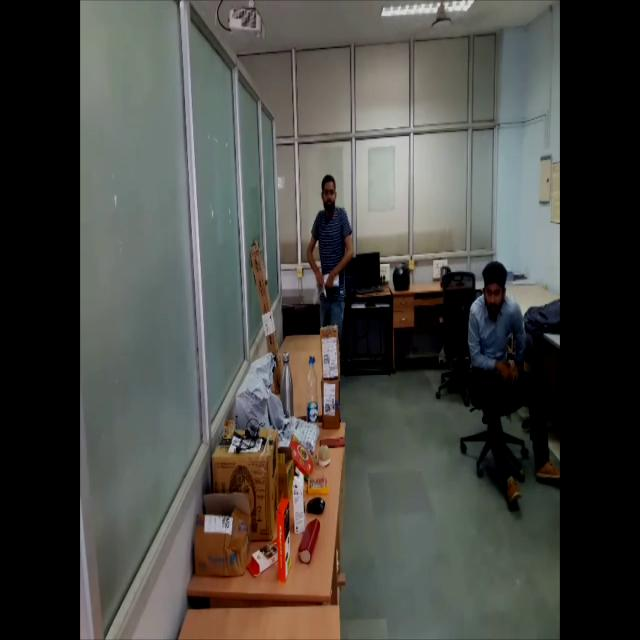normal: (459, 238, 559, 526), (310, 168, 363, 438)
